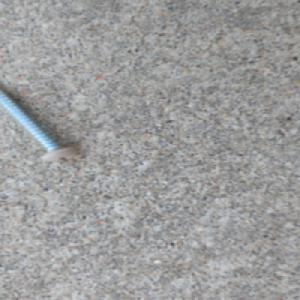Screw: (0, 83, 80, 162)
